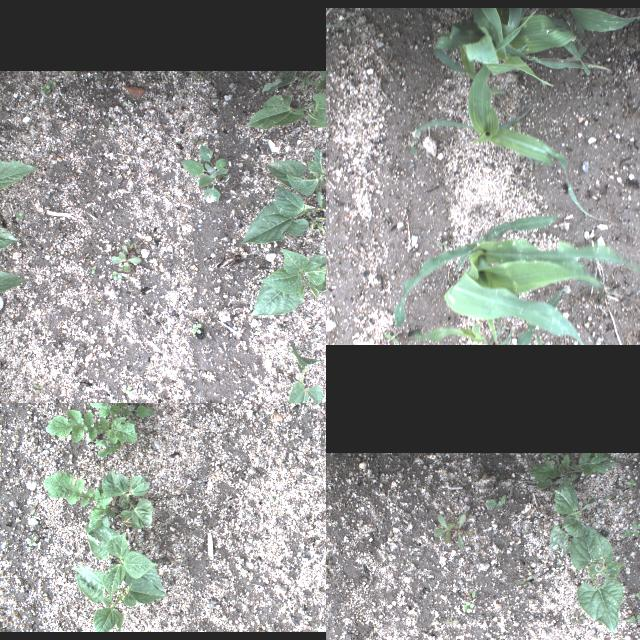crop: (410, 57, 608, 221), (391, 215, 640, 345), (433, 8, 611, 94), (72, 564, 168, 632), (567, 524, 625, 636), (84, 523, 164, 603), (250, 246, 326, 315), (240, 184, 326, 243), (548, 484, 618, 556), (568, 8, 640, 64), (100, 465, 152, 529), (522, 454, 614, 488), (264, 148, 326, 198), (274, 342, 323, 403), (244, 93, 326, 129), (516, 288, 566, 344), (406, 316, 506, 344), (0, 160, 36, 210), (0, 272, 30, 325), (261, 71, 326, 95), (559, 8, 579, 24), (500, 323, 512, 345), (536, 333, 540, 345)
weed: (45, 403, 153, 457), (42, 472, 118, 532), (326, 7, 359, 142), (180, 144, 230, 202), (429, 510, 471, 552), (110, 242, 140, 272), (481, 491, 509, 511), (458, 590, 479, 614), (513, 573, 539, 591), (619, 518, 640, 539), (410, 126, 422, 156), (620, 478, 640, 494), (444, 614, 461, 632), (354, 571, 371, 587), (384, 331, 401, 345), (625, 613, 640, 627), (326, 556, 334, 578), (28, 500, 38, 516), (432, 240, 446, 250), (32, 384, 42, 394), (96, 72, 106, 82), (112, 271, 122, 281), (26, 537, 36, 547), (192, 323, 200, 335), (634, 589, 640, 605), (40, 85, 50, 94), (15, 213, 23, 221), (122, 386, 130, 394), (109, 124, 118, 130), (190, 139, 202, 143), (48, 80, 54, 88), (121, 100, 131, 104), (90, 268, 96, 274)
